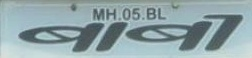character: (91, 6, 105, 23), (104, 7, 117, 21), (121, 7, 132, 21), (145, 6, 155, 20), (131, 7, 140, 21), (156, 6, 164, 19)
